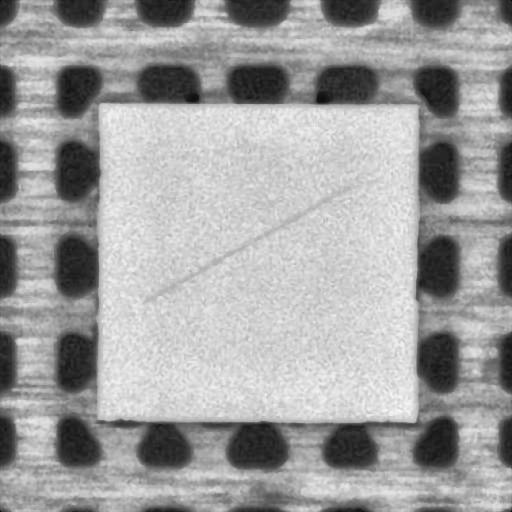DIE_CRACK: (142, 186, 348, 302)
